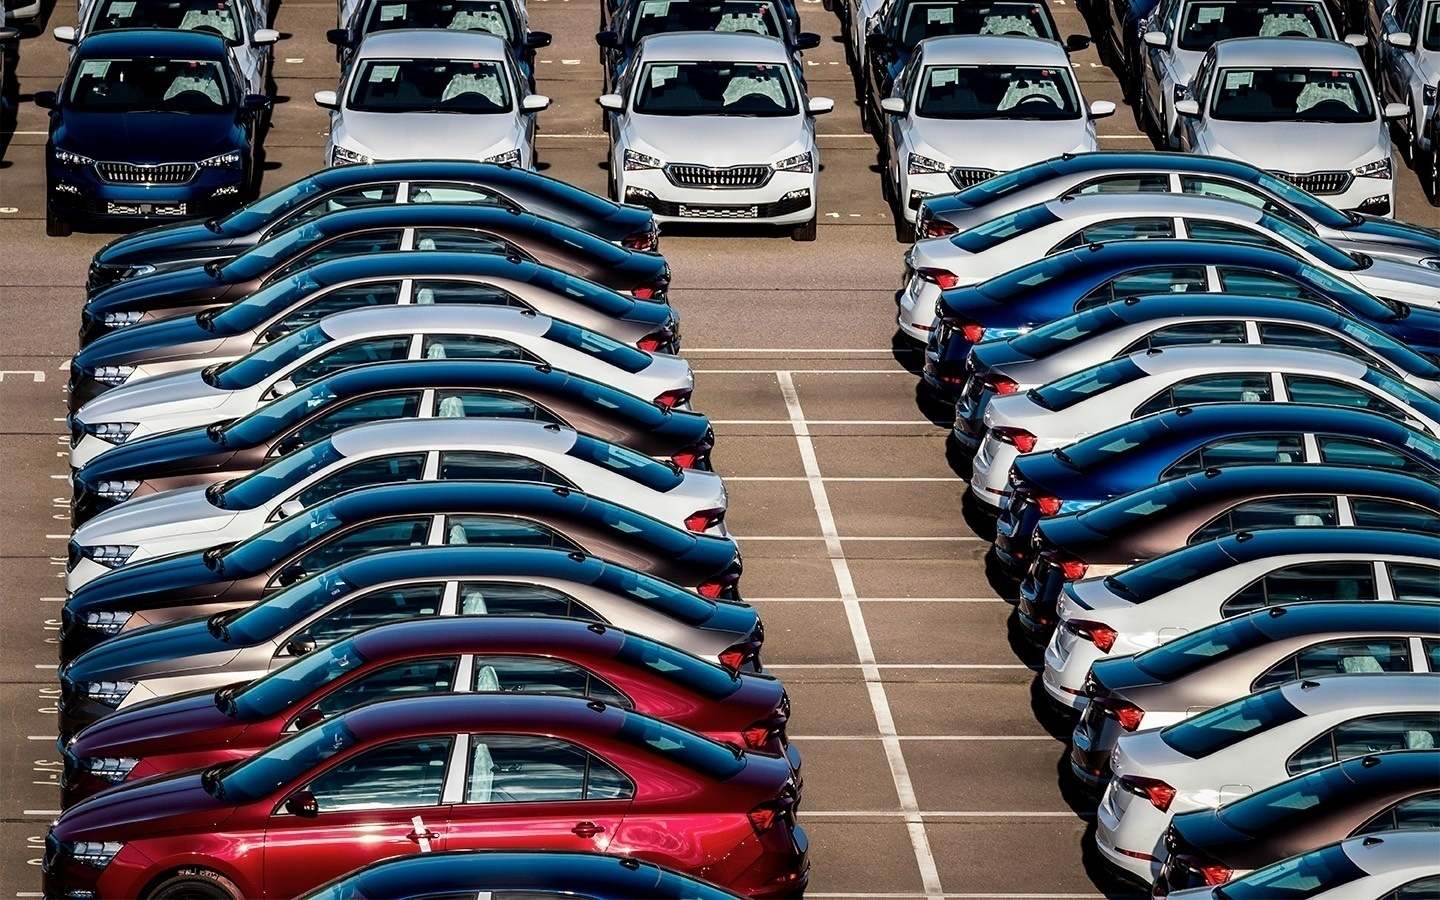Car: (43, 695, 810, 900), (60, 619, 797, 806), (58, 547, 765, 741), (60, 482, 742, 660), (67, 420, 728, 592), (72, 361, 716, 526), (69, 306, 695, 471), (67, 253, 679, 410), (923, 240, 1440, 403), (80, 206, 672, 345), (898, 194, 1440, 345), (970, 346, 1440, 513), (953, 294, 1440, 452), (1017, 465, 1440, 646), (994, 404, 1440, 576), (87, 161, 660, 293), (1042, 528, 1440, 714), (1094, 675, 1440, 887), (1070, 603, 1440, 793), (915, 152, 1440, 271), (35, 29, 269, 237), (598, 33, 832, 240), (881, 37, 1116, 229), (1152, 750, 1440, 897), (1174, 38, 1408, 217), (315, 29, 550, 168), (1138, 0, 1342, 146), (864, 0, 1060, 132), (301, 851, 745, 900), (53, 0, 281, 94), (597, 0, 819, 90), (1162, 831, 1440, 900), (328, 0, 550, 81), (1377, 0, 1440, 159), (604, 0, 801, 30), (336, 0, 528, 28), (1091, 0, 1158, 74), (77, 0, 267, 23), (0, 0, 19, 161), (846, 0, 888, 68), (1362, 0, 1395, 80), (1424, 84, 1440, 206), (1325, 0, 1368, 36), (4, 0, 44, 31)
